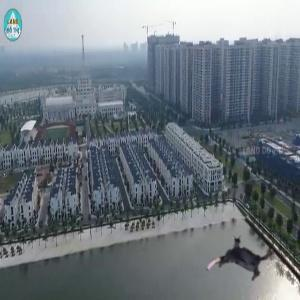drone: (209, 227, 278, 296)
